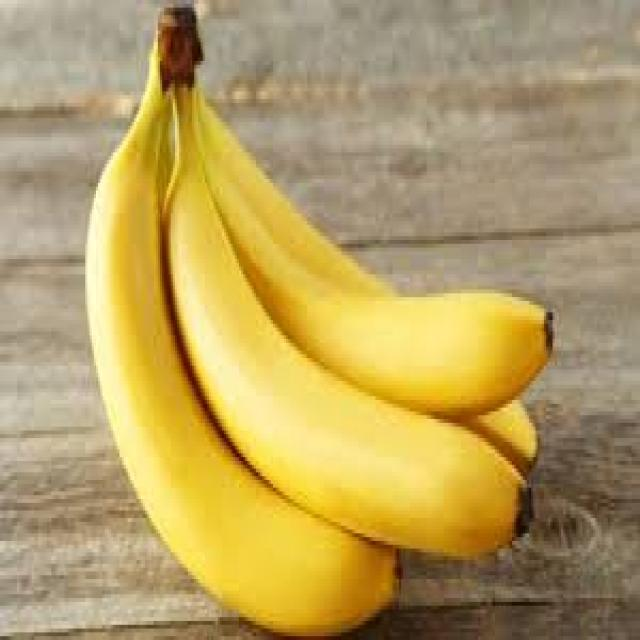banana: (83, 0, 555, 636)
